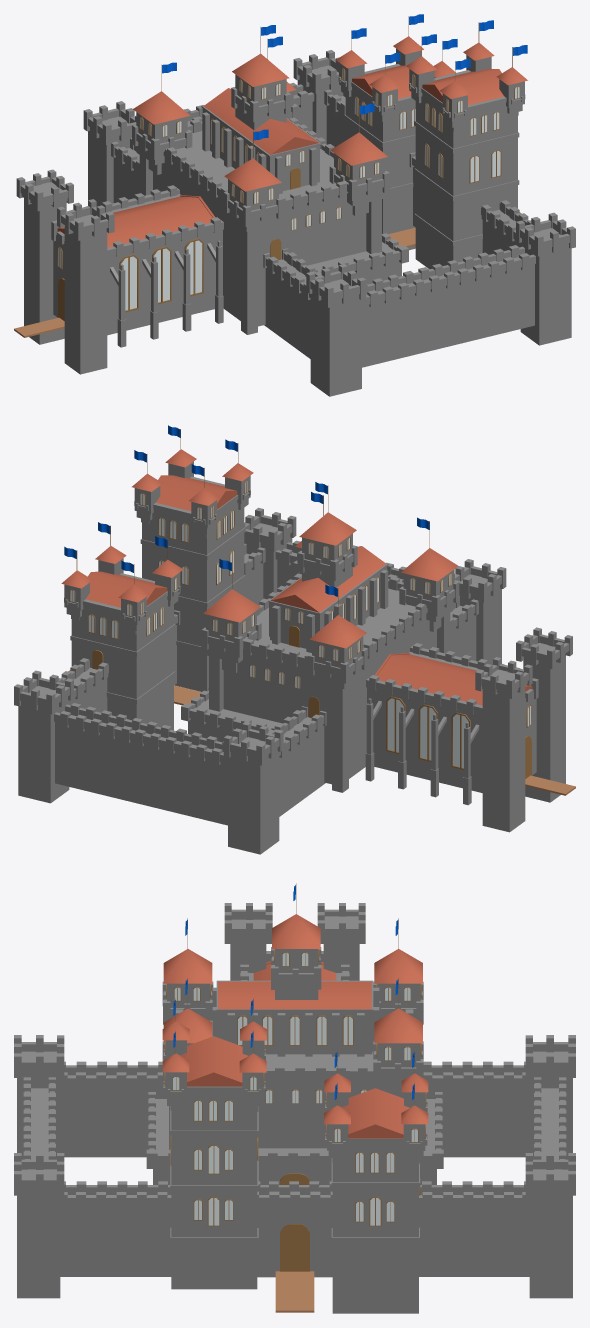
Rendered from uploads_files_722446_Low+Poly+Castle.fbx.
3 renders of one model, top to bottom at view 1: azimuth 30°, elevation 25°; view 2: azimuth 150°, elevation 25°; view 3: azimuth 270°, elevation 25°, orthographic. The views are drawn at different scales.
Parts seen in each view (by area): view 1: Null_2; view 2: Null_2; view 3: Null_2.
Boxes of the visible parts, bbox=[...] form: Null_2: bbox=[14, 14, 575, 396]; Null_2: bbox=[14, 425, 575, 854]; Null_2: bbox=[14, 883, 575, 1313].
Size of the model in its own units: 922 by 487 by 782.
